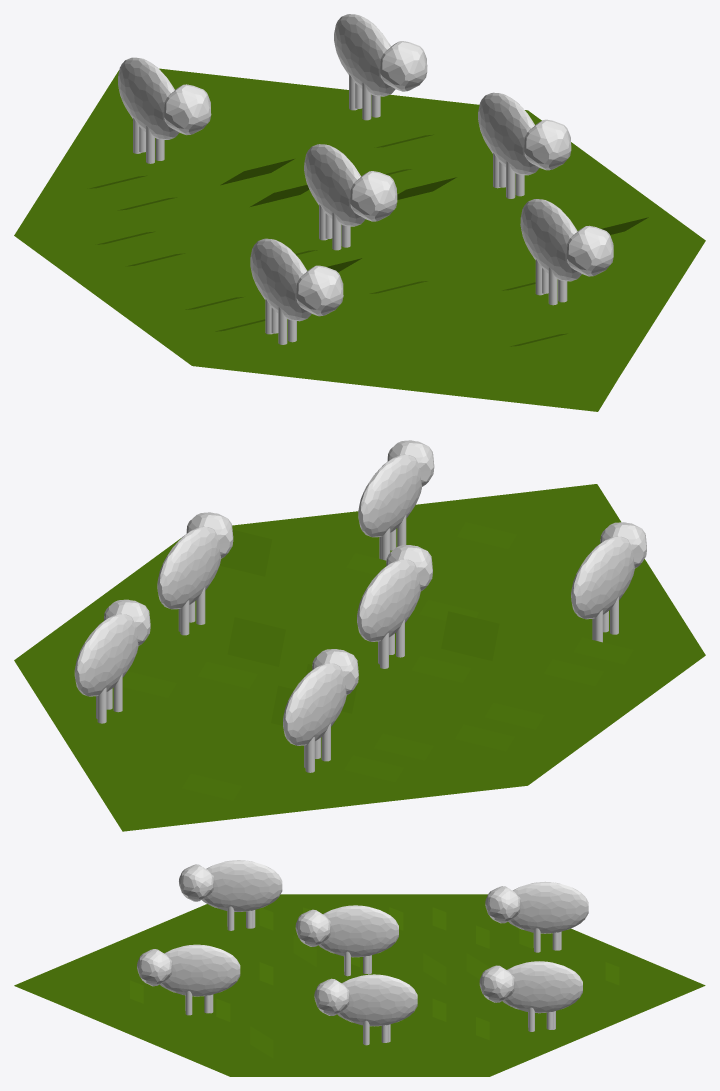
File: wool.fbx
3 views of the same model, one above another, from view 1: azimuth 30°, elevation 25°; view 2: azimuth 150°, elevation 25°; view 3: azimuth 270°, elevation 25° (orthographic). The views are drawn at different scales.
Parts seen in each view (by area): view 1: Plane, Icosphere.002, Icosphere.003, Icosphere.000, Icosphere.004, Icosphere.001, Icosphere.005; view 2: Plane, Icosphere.001, Icosphere.003, Icosphere.005, Icosphere.004, Icosphere.000, Icosphere.002; view 3: Plane, Icosphere.002, Icosphere.000, Icosphere.005, Icosphere.003, Icosphere.001, Icosphere.004.
Part boxes in pixels (bbox=[...]): Plane: bbox=[14, 68, 705, 411]; Icosphere.002: bbox=[520, 199, 613, 305]; Icosphere.003: bbox=[334, 14, 427, 120]; Icosphere.000: bbox=[250, 238, 343, 344]; Icosphere.004: bbox=[304, 144, 397, 250]; Icosphere.001: bbox=[478, 92, 571, 198]; Icosphere.005: bbox=[118, 57, 211, 163]; Plane: bbox=[14, 484, 705, 831]; Icosphere.001: bbox=[157, 512, 233, 635]; Icosphere.003: bbox=[74, 599, 150, 723]; Icosphere.005: bbox=[283, 649, 358, 772]; Icosphere.004: bbox=[357, 545, 432, 668]; Icosphere.000: bbox=[571, 522, 646, 642]; Icosphere.002: bbox=[358, 440, 434, 560]; Plane: bbox=[14, 894, 705, 1076]; Icosphere.002: bbox=[137, 944, 240, 1015]; Icosphere.000: bbox=[179, 860, 282, 930]; Icosphere.005: bbox=[485, 881, 588, 952]; Icosphere.003: bbox=[479, 961, 582, 1031]; Icosphere.001: bbox=[314, 974, 417, 1045]; Icosphere.004: bbox=[295, 905, 398, 976].
Size of the model in its own units: 1.25 by 0.2372 by 2.
